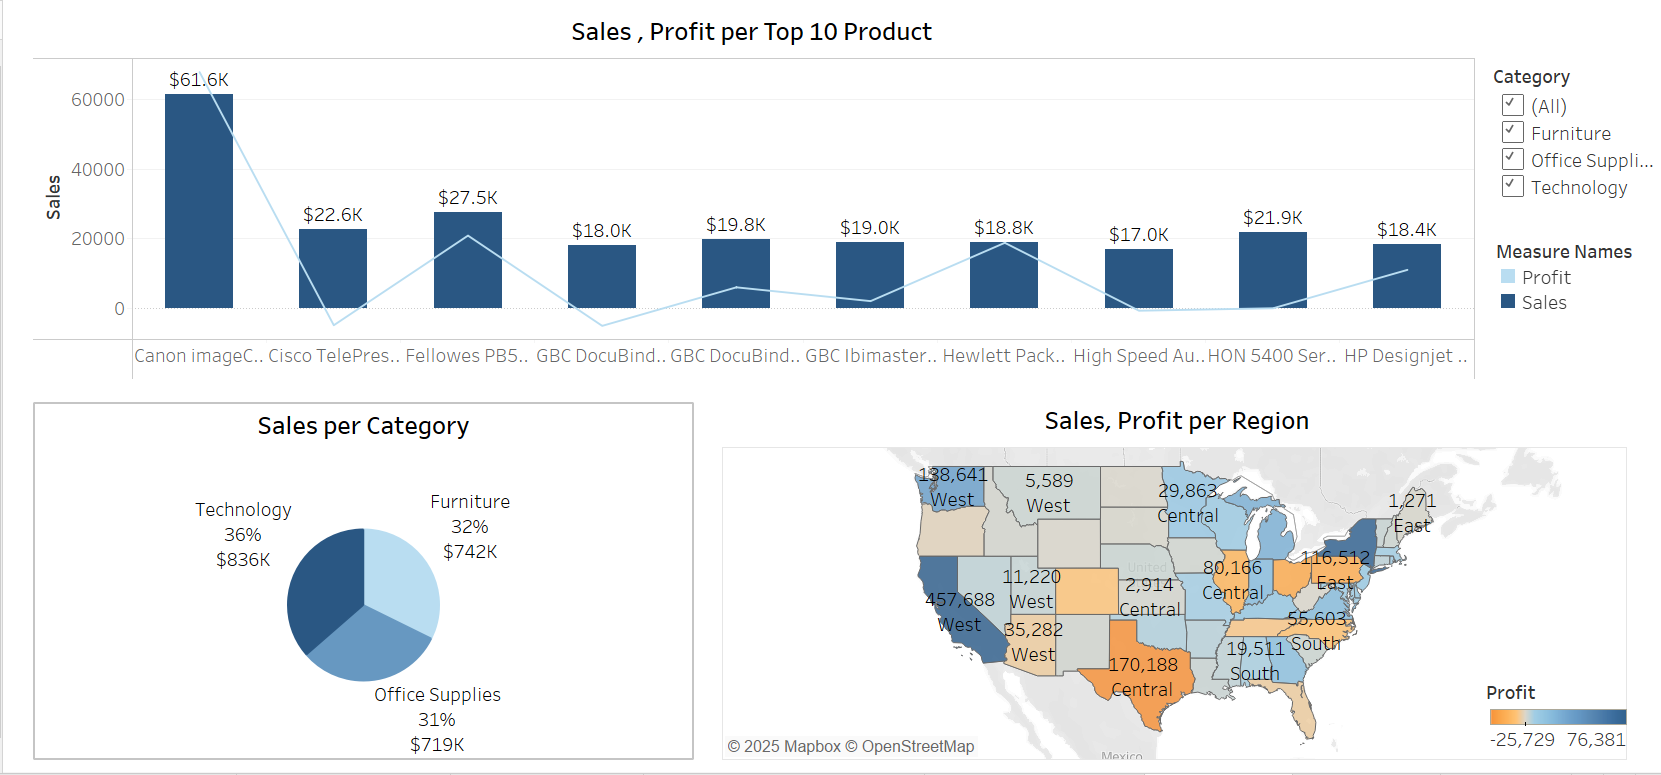

The page's visual inventory and layout, read from the dashboard file:
{"tool":"tableau","page":{"name":"Dashboard 1","canvas":[1000,1000],"units":"permille","ordinal":0},"visuals":[{"type":"worksheet","title":"Sales, Profit for Top 10 Products","mark":"Bar","rows":["Sales","Profit"],"cols":["Product Name"],"box":[18.1,13,867.2,479.3]},{"type":"filter","title":"Profit, Sales for Each Region","param":"[federated.11mduht1l7vdfk1bifp7018flagy].[none:Category:nk]","box":[895.6,81.6,100.1,213.7]},{"type":"legend","title":"Sales, Profit for Top 10 Products","param":"[federated.11mduht1l7vdfk1bifp7018flagy].[:Measure Names]","box":[897.5,308.3,98.2,165.8]},{"type":"worksheet","title":"Profit, Sales for Each Region","mark":"Automatic","box":[431.9,516.8,549.4,467.6]},{"type":"worksheet","title":"Sales per Category","mark":"Pie","box":[19.3,523.3,394.7,458.6]},{"type":"legend","title":"Profit, Sales for Each Region","param":"[federated.11mduht1l7vdfk1bifp7018flagy].[sum:Profit:qk]","box":[891.5,879.5,87.3,97.2]}]}

Visuals, with their boxes on the dashboard's canvas, which has no fixed pixel size, in thousandths of its width and height (x1, y1, x2, y2). These are canvas units, not pixel positions in the 1661x775 screenshot, which may show the page scaled, cropped or inside an application window:
"Sales, Profit for Top 10 Products" worksheet (Bar marks): (left=18, top=13, right=885, bottom=492)
"Profit, Sales for Each Region" filter: (left=896, top=82, right=996, bottom=295)
"Sales, Profit for Top 10 Products" legend: (left=898, top=308, right=996, bottom=474)
"Profit, Sales for Each Region" worksheet: (left=432, top=517, right=981, bottom=984)
"Sales per Category" worksheet (Pie marks): (left=19, top=523, right=414, bottom=982)
"Profit, Sales for Each Region" legend: (left=892, top=880, right=979, bottom=977)
